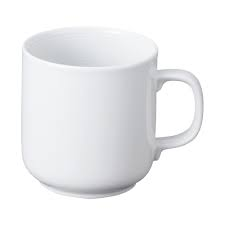Cup: (17, 26, 204, 199)
